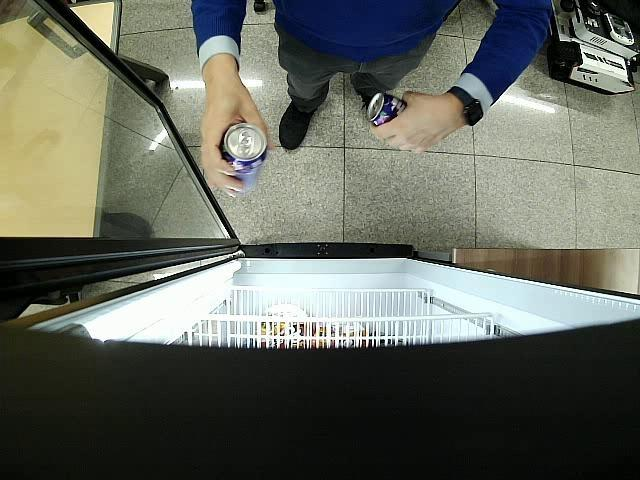14_welchsGrape: (220, 124, 268, 194), (367, 90, 410, 126)
